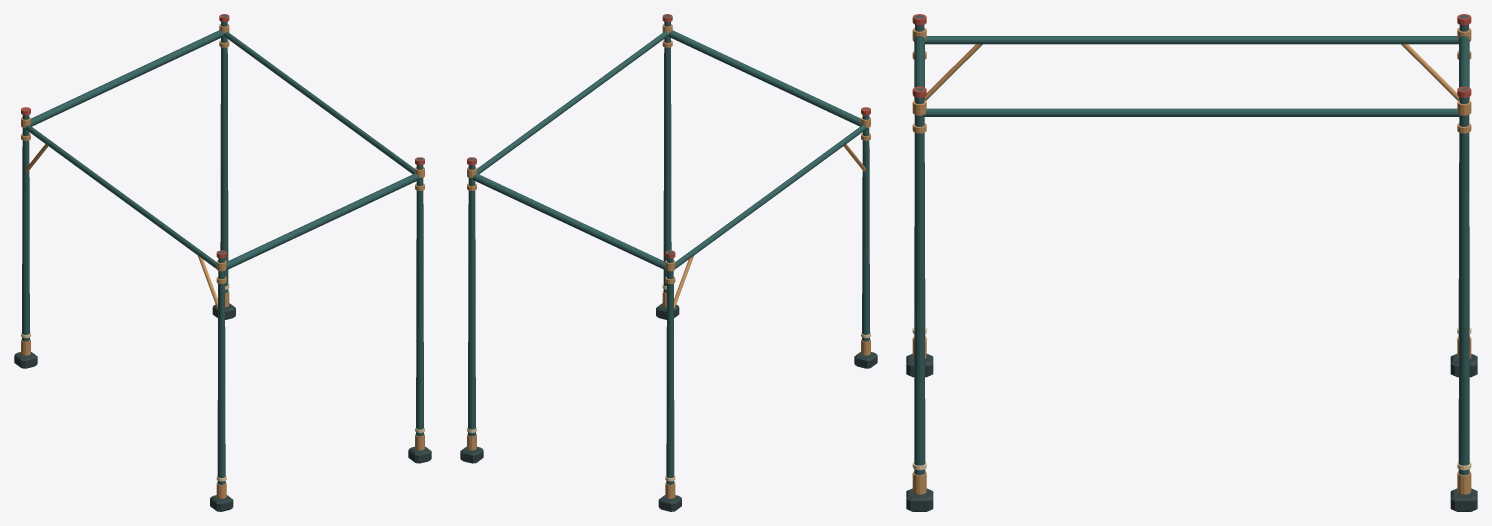
File: LacedFrame.glb
3 views of the same model, side by side, from view 1: azimuth 30°, elevation 25°; view 2: azimuth 150°, elevation 25°; view 3: azimuth 270°, elevation 25° (orthographic). The views are drawn at different scales.
Parts seen in each view (by area): view 1: LacedFrame; view 2: LacedFrame; view 3: LacedFrame.
Part boxes in pixels (x1,y1,x2,y2): LacedFrame: (14, 14, 431, 511); LacedFrame: (460, 14, 877, 511); LacedFrame: (906, 14, 1477, 511).
Size of the model in its own units: 2.82 by 3.76 by 4.66.
